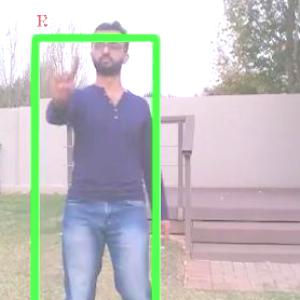takeoff-hand: (42, 46, 82, 102)
